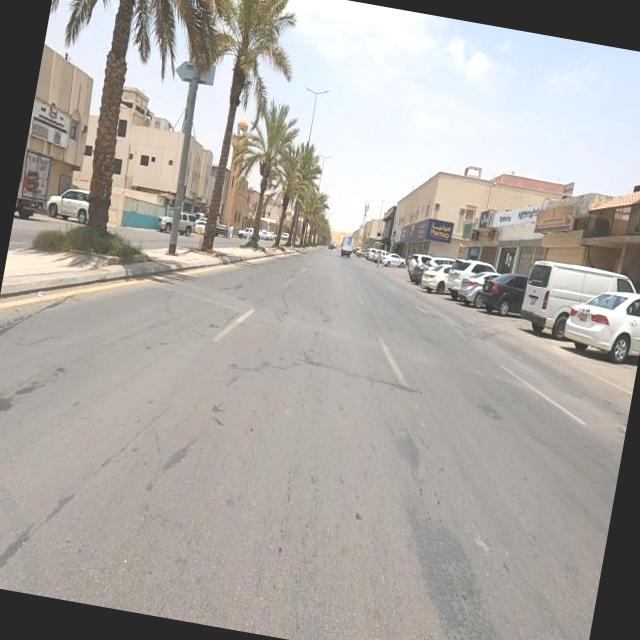debris: (556, 169, 640, 277)
